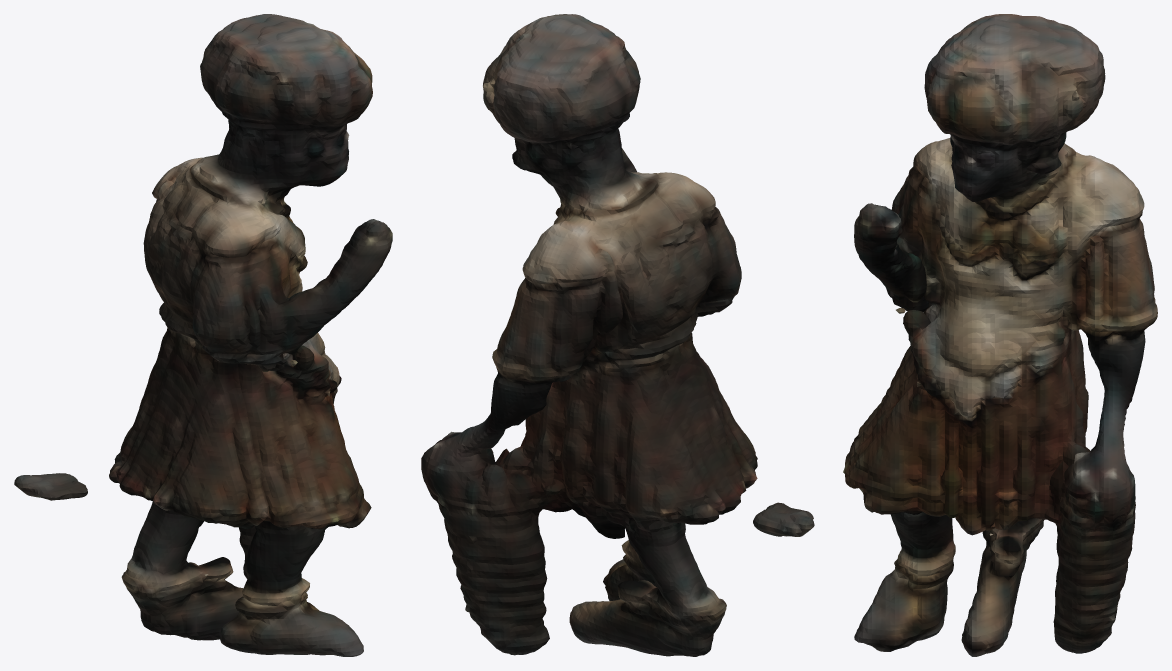
File: meshsave_7_.fbx
3 renders of one model, left to right at view 1: azimuth 30°, elevation 25°; view 2: azimuth 150°, elevation 25°; view 3: azimuth 270°, elevation 25°, orthographic. The views are drawn at different scales.
Parts seen in each view (by area): view 1: meshsave_7_; view 2: meshsave_7_; view 3: meshsave_7_.
Boxes of the visible parts, x1,y1,x2,y2 form: meshsave_7_: [14, 14, 392, 656]; meshsave_7_: [421, 14, 814, 656]; meshsave_7_: [843, 14, 1157, 656].
Bounding box in the file's own units: 63.66 × 104 × 47.25.
